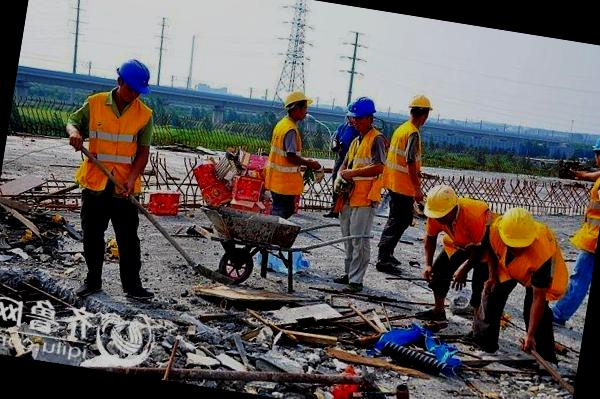helmet: (108, 54, 158, 106), (496, 202, 542, 250), (420, 180, 458, 223), (279, 88, 316, 120), (346, 92, 381, 125), (405, 92, 434, 120)
person: (60, 48, 174, 304), (463, 201, 574, 366), (314, 92, 393, 292), (364, 88, 441, 280), (406, 186, 488, 336), (256, 89, 325, 221)
